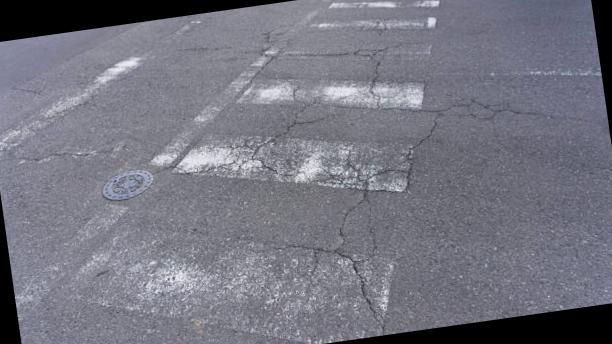faded_road_lines: (0, 0, 494, 344)
